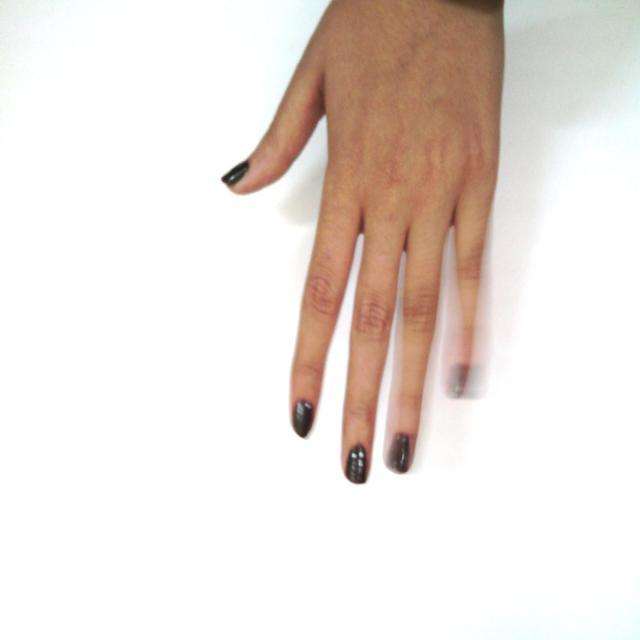Fingernail: (386, 432, 410, 475), (344, 443, 366, 484), (291, 400, 314, 439), (222, 161, 247, 187)
